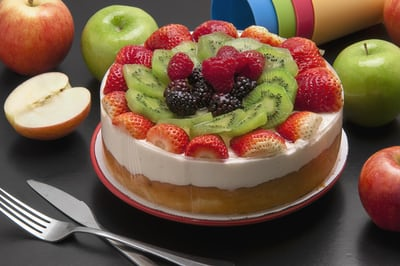apple: (2, 68, 94, 144), (331, 34, 399, 136), (79, 4, 160, 86), (1, 1, 78, 84), (358, 140, 399, 240)
